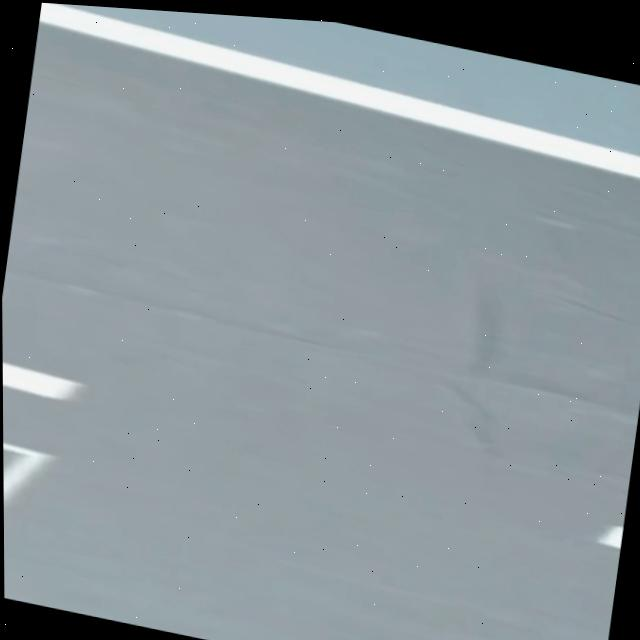center: (3, 362, 81, 398), (598, 525, 624, 547)
left: (39, 3, 640, 177)
